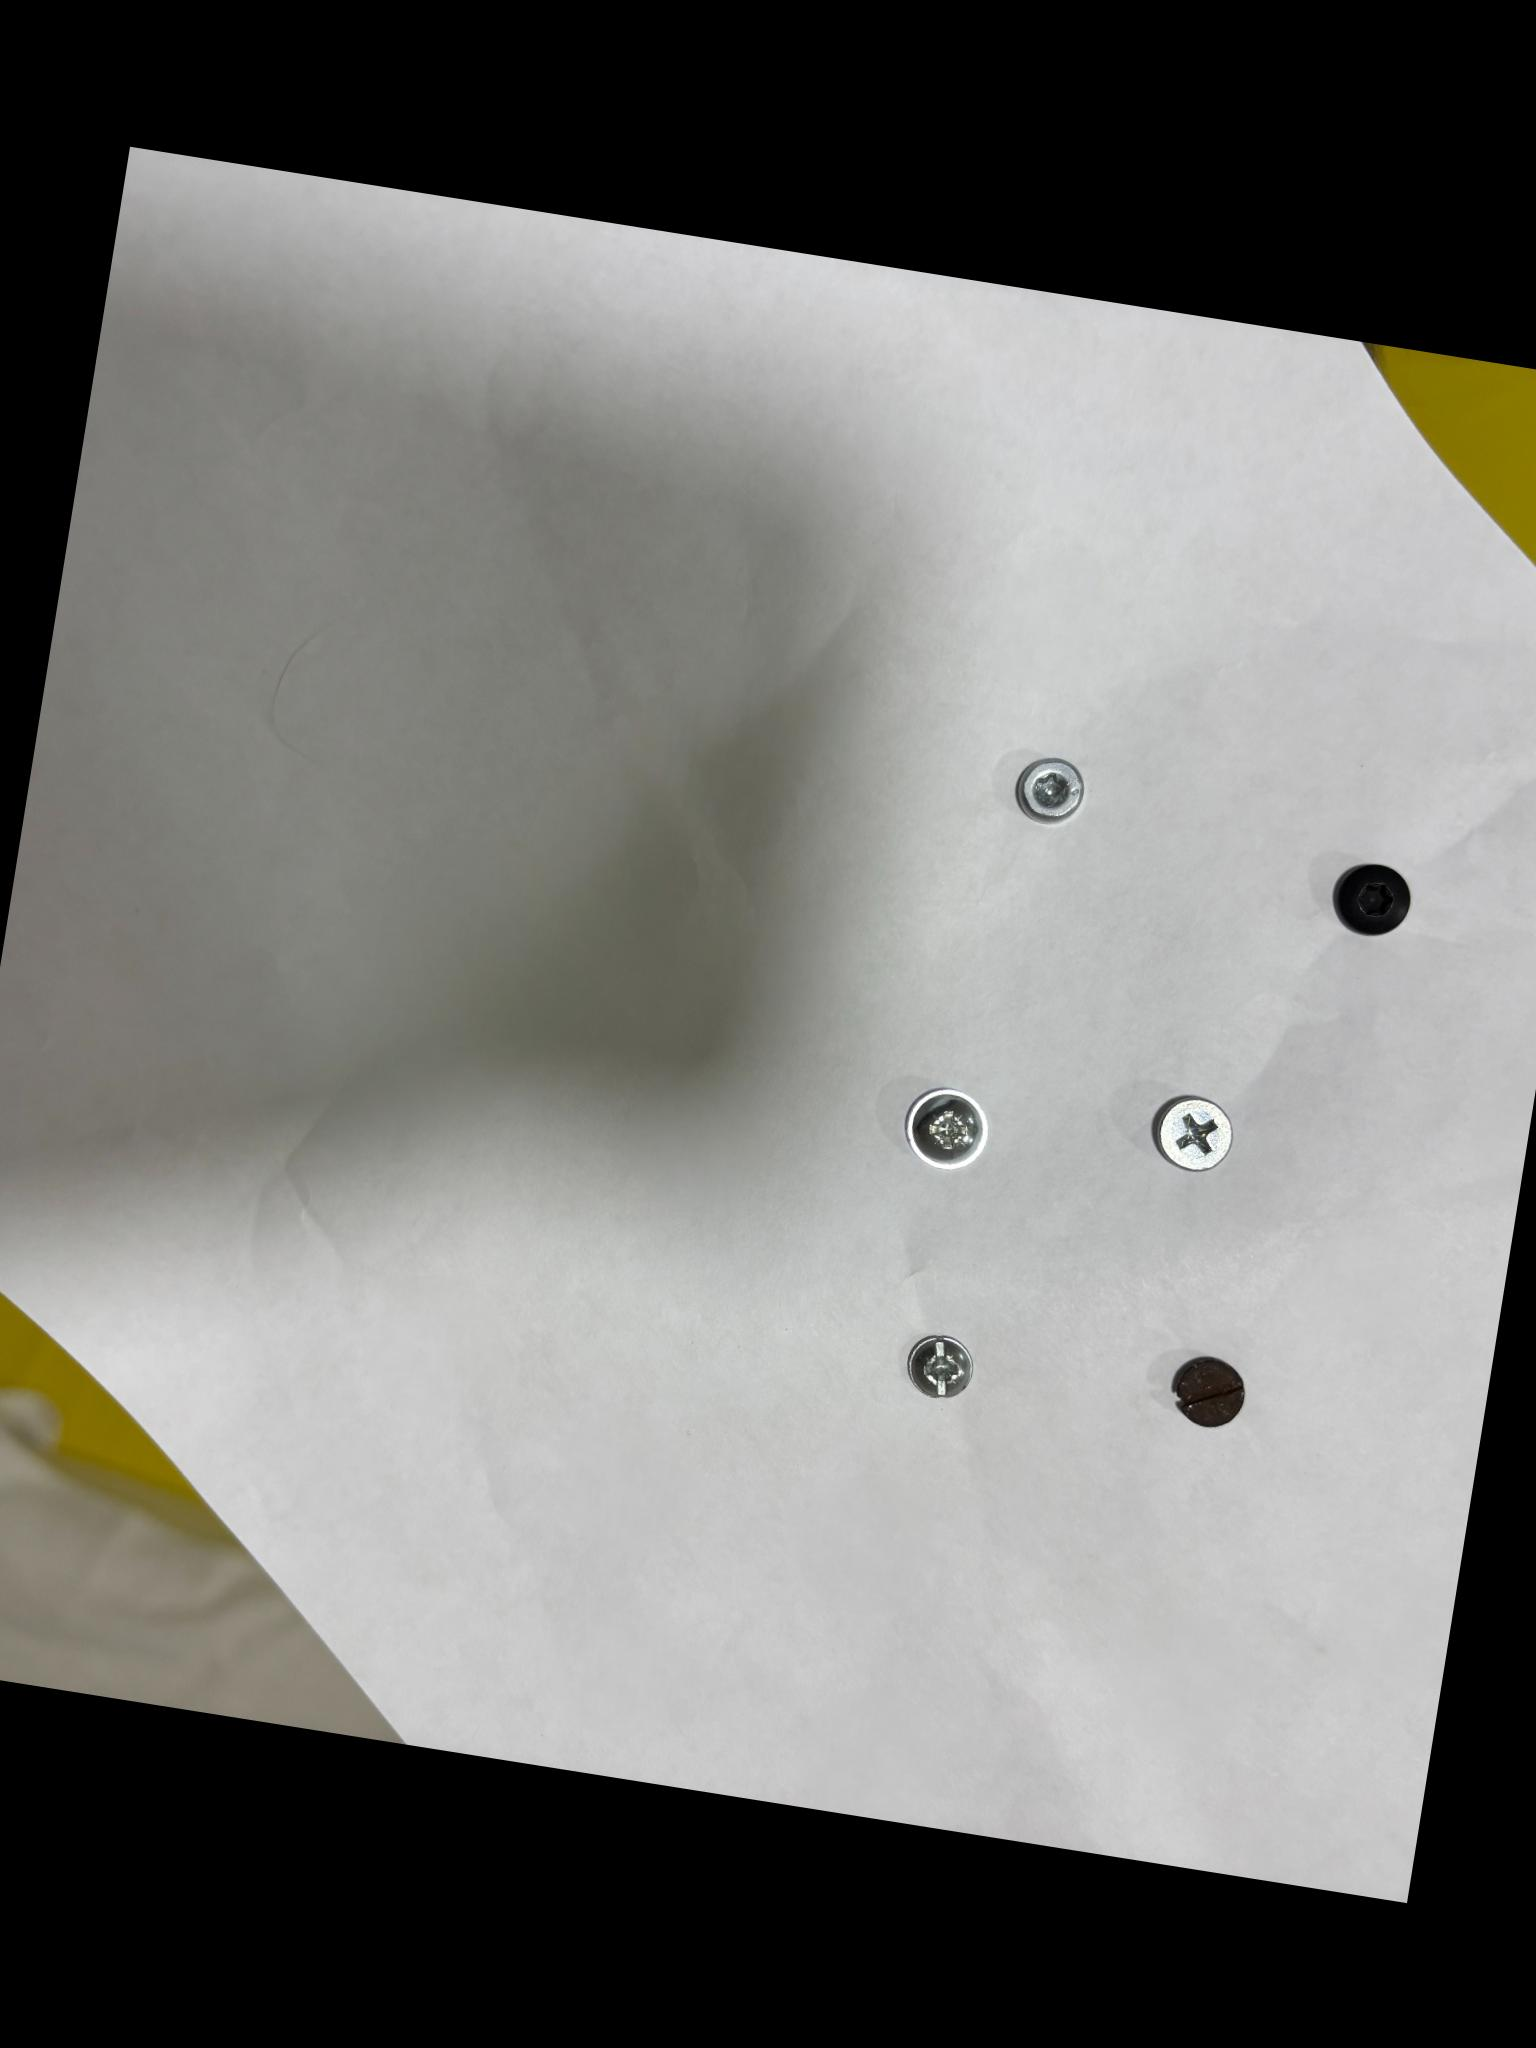H: (1334, 863, 1410, 934)
PH: (1154, 1095, 1233, 1171)
PZ: (908, 1087, 986, 1168), (907, 1334, 971, 1397)
SL: (1173, 1355, 1244, 1426)
T: (1016, 756, 1084, 822)
